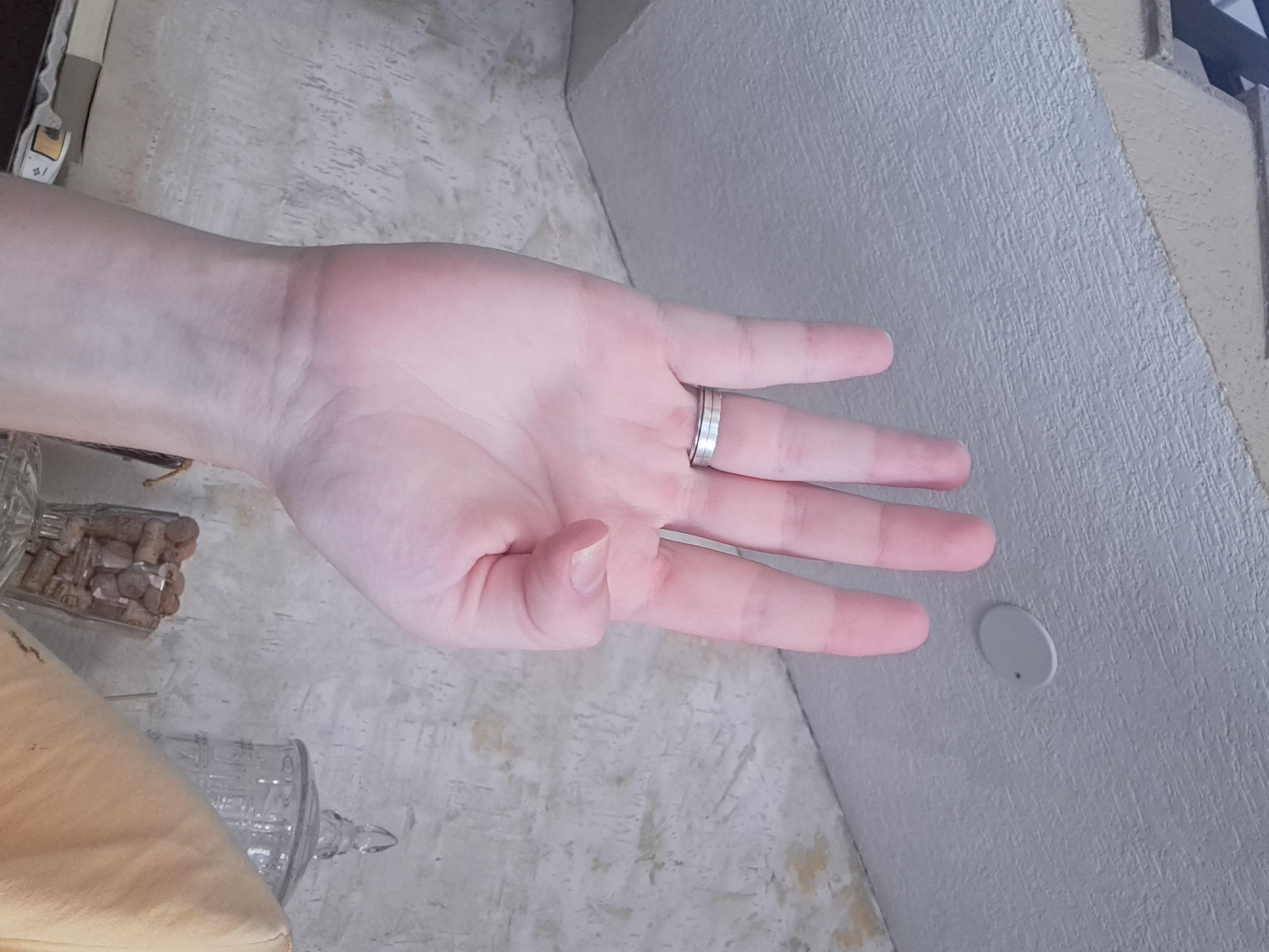B: (321, 192, 907, 755)
